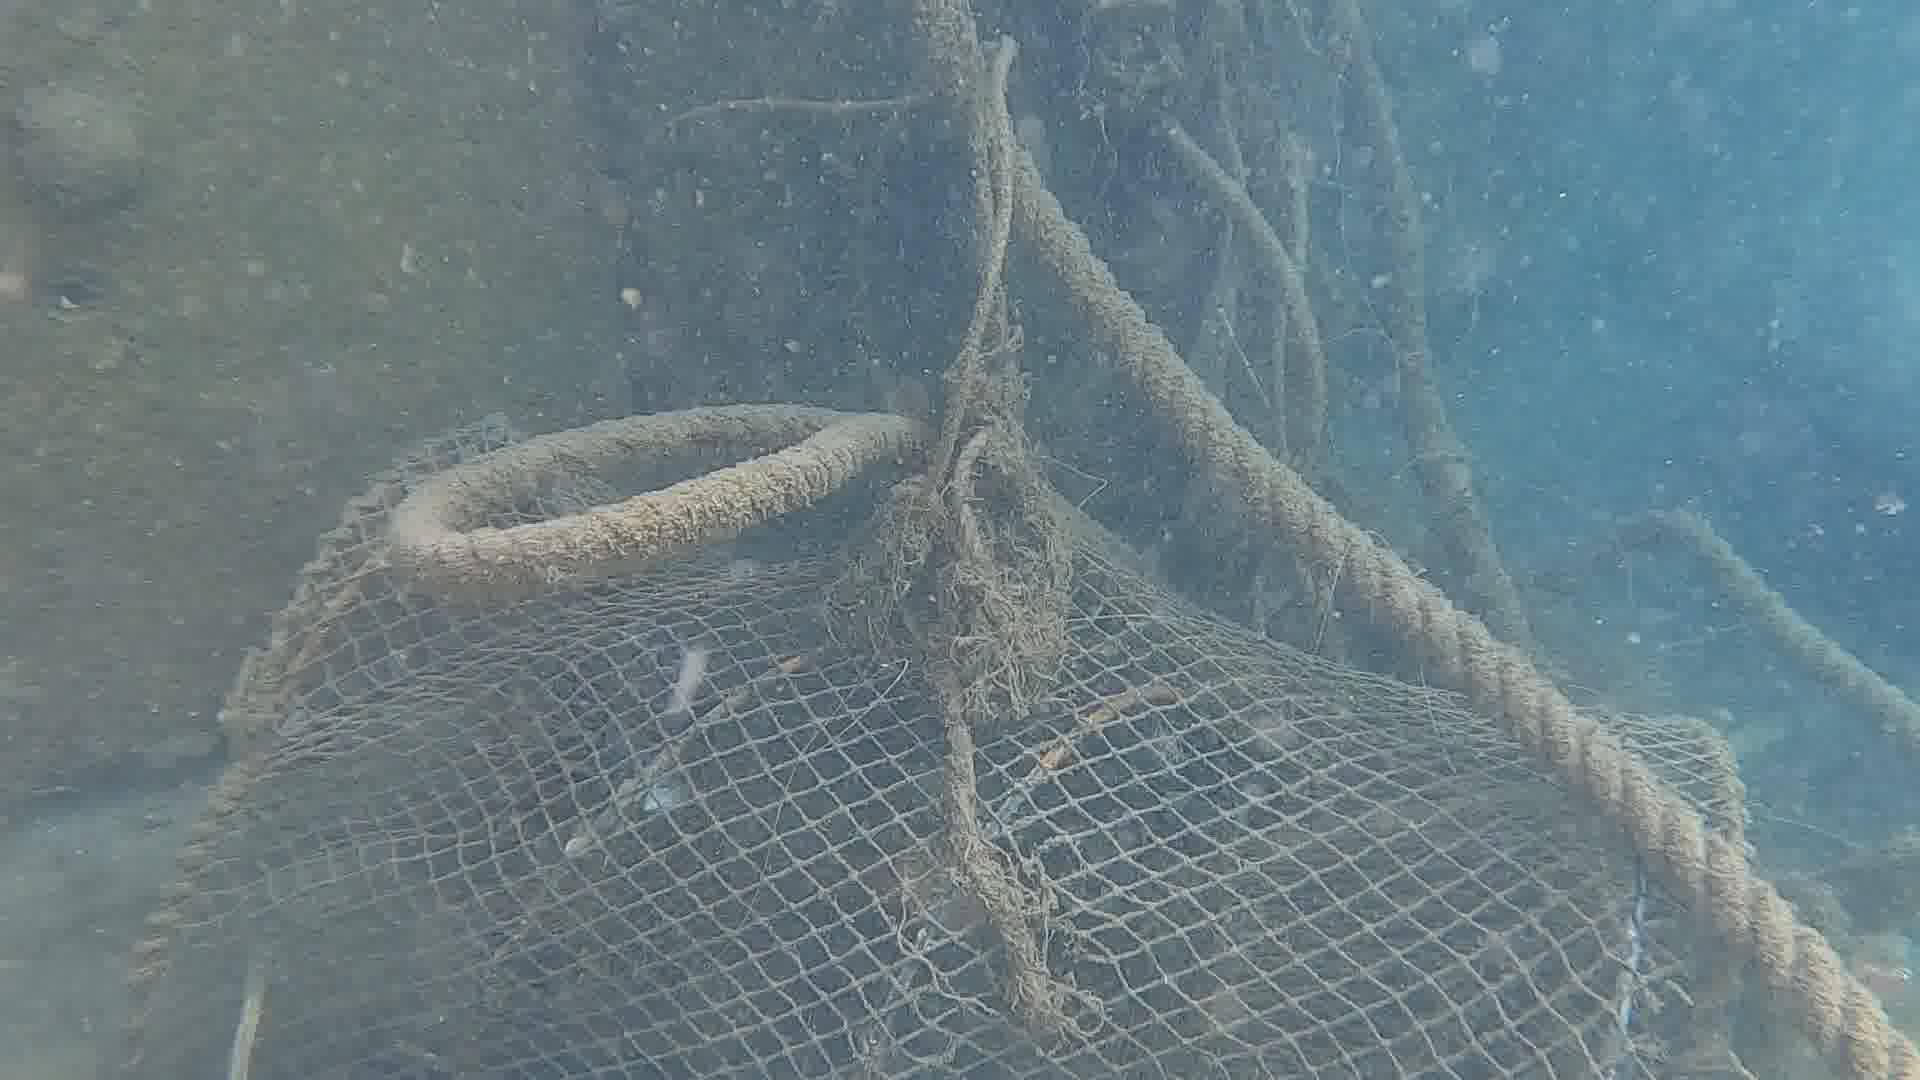bundle of ropes: (1019, 0, 1920, 1080)
rope: (386, 401, 928, 585), (935, 33, 1015, 477)
spring fish trap: (129, 415, 1753, 1080)
